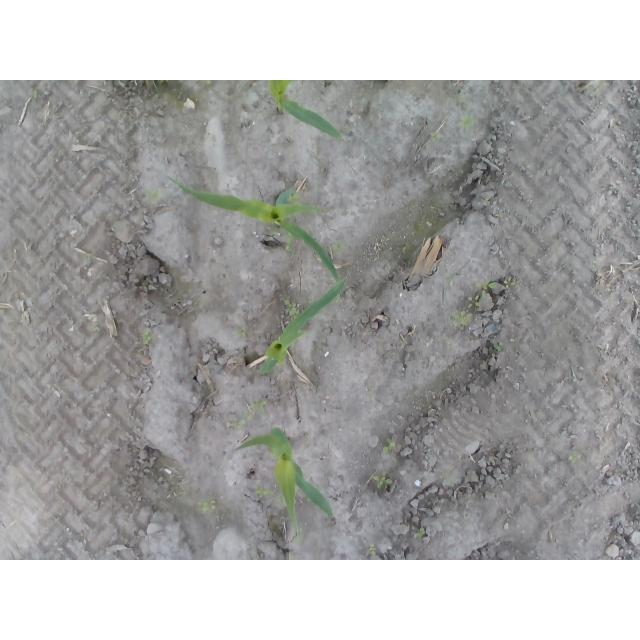Maize: (167, 177, 346, 294), (232, 424, 338, 545), (258, 278, 346, 375), (267, 80, 345, 144)
Weeds: (233, 397, 267, 431), (372, 471, 394, 492), (280, 295, 300, 318), (449, 310, 471, 327), (198, 499, 219, 514), (455, 115, 477, 129), (384, 437, 397, 455), (145, 186, 161, 200), (466, 294, 481, 308), (475, 279, 496, 289), (255, 487, 273, 498), (503, 277, 517, 288), (368, 543, 379, 557), (332, 243, 345, 254), (287, 232, 294, 252), (143, 331, 152, 346), (430, 132, 442, 143), (239, 327, 250, 338), (415, 526, 425, 538), (568, 453, 577, 463), (495, 344, 505, 353), (336, 293, 344, 303)
